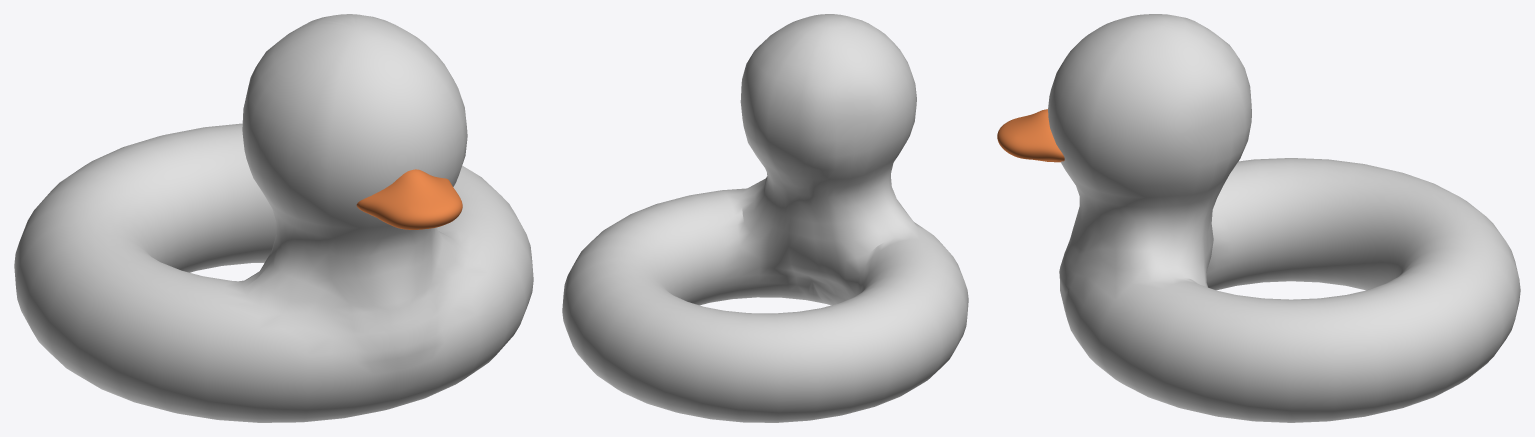
Rendered from Duck-floaty.fbx.
3 renders of one model, left to right at view 1: azimuth 30°, elevation 25°; view 2: azimuth 150°, elevation 25°; view 3: azimuth 270°, elevation 25°, orthographic. The views are drawn at different scales.
Visible parts, largest first — view 1: simple, bill simple; view 2: simple; view 3: simple, bill simple.
Part boxes in pixels (x1,y1,x2,y2): simple: [14, 14, 533, 422]; bill simple: [356, 169, 462, 229]; simple: [562, 14, 968, 422]; simple: [1048, 14, 1520, 422]; bill simple: [997, 109, 1064, 162].
Bounding box in the file's own units: 468 × 365 × 534.
